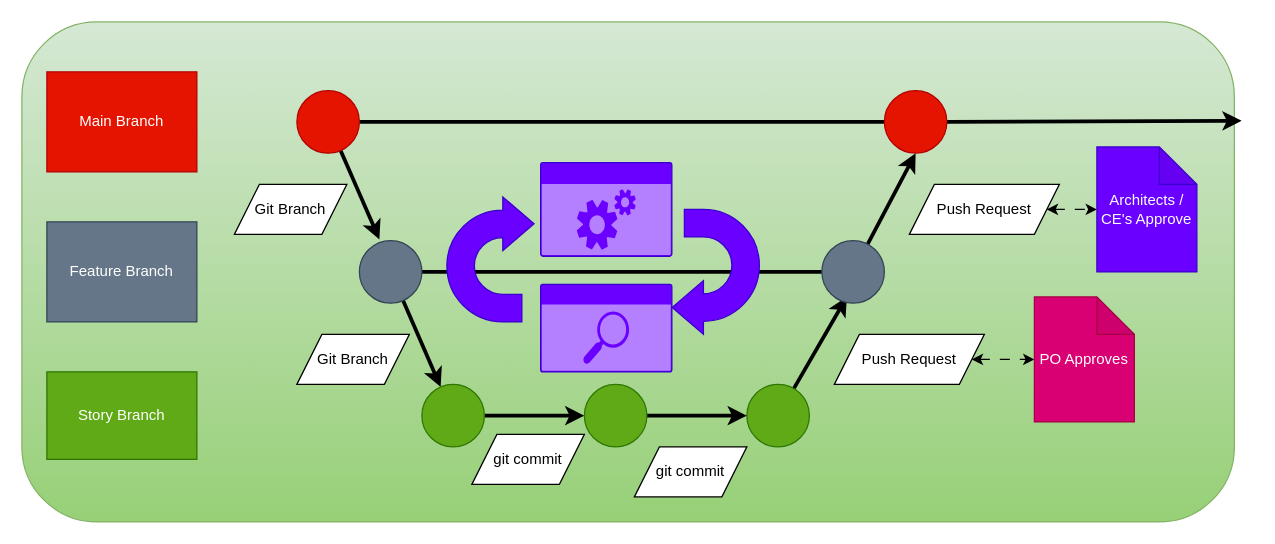
This 1275x544 diagram has some shape labels left out. The shapes that lost their labels are listed below. From the top down, each one's centre as x and y in pixels, then its label:
At [605,208]: "Build Workflow".
At [605,327]: "Linting Workflows".
